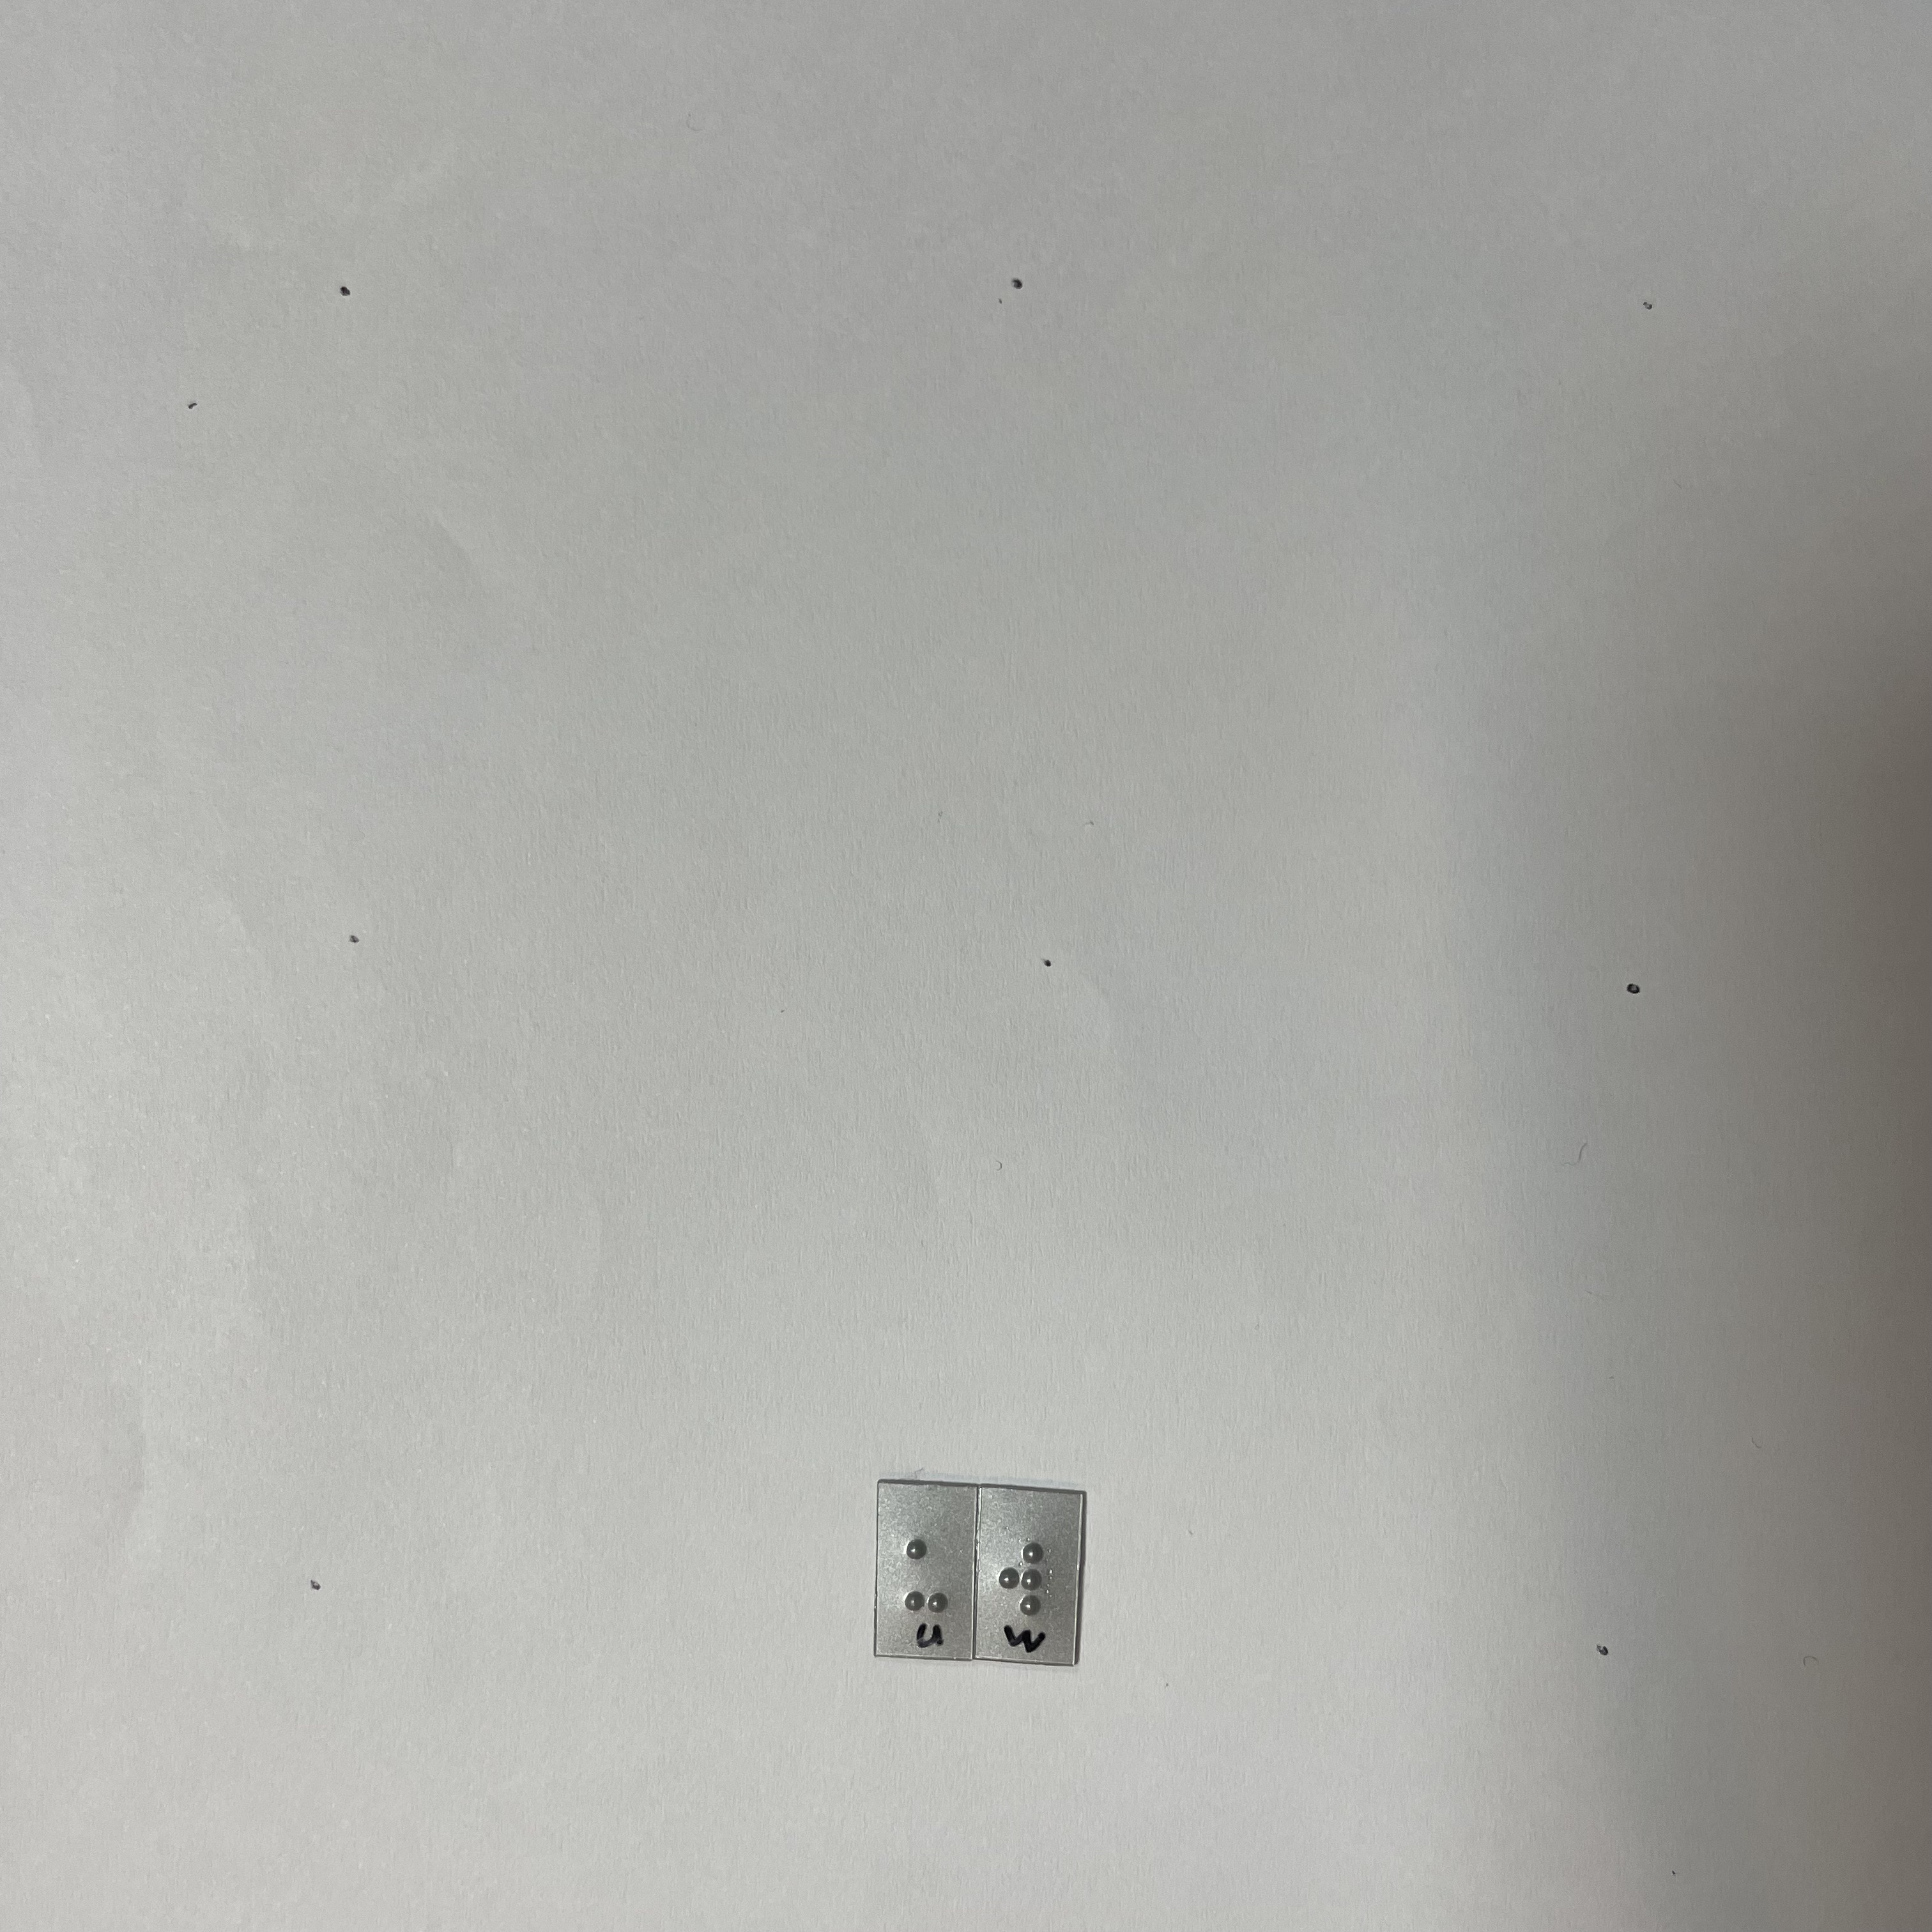u: (900, 1529, 956, 1623)
w: (996, 1529, 1054, 1626)
